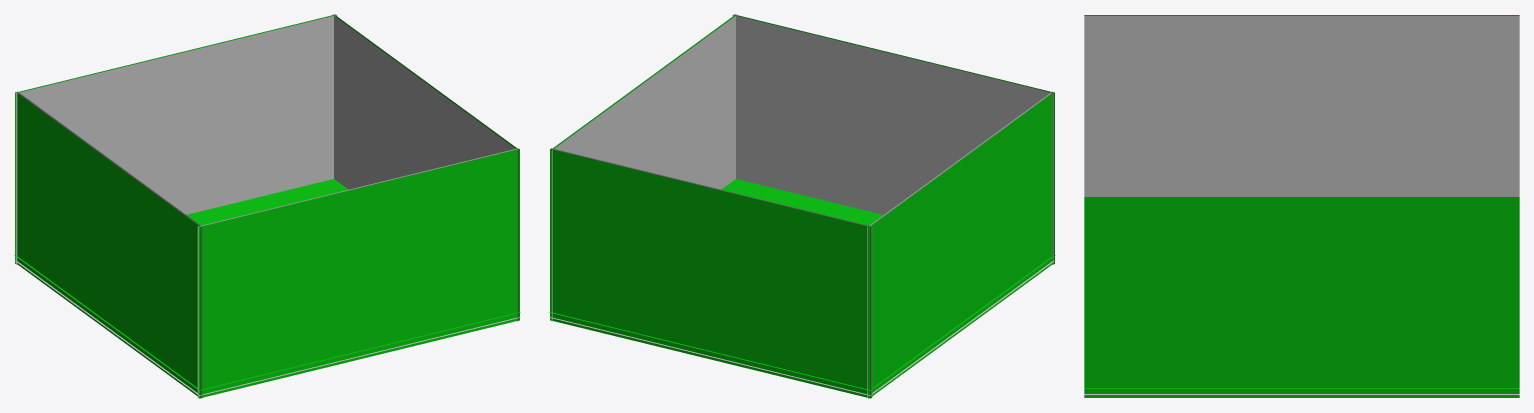
The model's file is the-pit.obj.
The picture shows the model from 3 angles, left to right: view 1: azimuth 30°, elevation 25°; view 2: azimuth 150°, elevation 25°; view 3: azimuth 270°, elevation 25°; orthographic projection. The views are drawn at different scales.
Parts seen in each view (by area): view 1: southWallColl, northWall, westWallColl, eastWall, groundColl, ground, southWall, eastWallColl, northWallColl, westWall; view 2: northWallColl, southWall, westWallColl, eastWall, groundColl, ground, northWall, eastWallColl, southWallColl, westWall; view 3: eastWallColl, westWall, ground, eastWall, groundColl, westWallColl.
Part boxes in pixels (left/top/right/bottom): southWallColl: left=198, top=149, right=519, bottom=398; northWall: left=16, top=15, right=337, bottom=264; westWallColl: left=16, top=92, right=201, bottom=398; eastWall: left=333, top=15, right=517, bottom=321; groundColl: left=14, top=179, right=520, bottom=390; ground: left=14, top=260, right=520, bottom=395; southWall: left=197, top=148, right=518, bottom=397; eastWallColl: left=333, top=14, right=519, bottom=320; northWallColl: left=15, top=14, right=336, bottom=263; westWall: left=17, top=91, right=202, bottom=397; northWallColl: left=550, top=149, right=871, bottom=398; southWall: left=732, top=15, right=1053, bottom=264; westWallColl: left=868, top=92, right=1053, bottom=398; eastWall: left=552, top=15, right=736, bottom=321; groundColl: left=549, top=179, right=1055, bottom=390; ground: left=549, top=260, right=1055, bottom=395; northWall: left=551, top=148, right=872, bottom=397; eastWallColl: left=550, top=14, right=736, bottom=320; southWallColl: left=733, top=14, right=1054, bottom=263; westWall: left=867, top=91, right=1052, bottom=397; eastWallColl: left=1084, top=197, right=1519, bottom=397; westWall: left=1084, top=16, right=1519, bottom=195; ground: left=1084, top=394, right=1519, bottom=394; eastWall: left=1084, top=196, right=1519, bottom=196; groundColl: left=1084, top=388, right=1519, bottom=388; westWallColl: left=1084, top=15, right=1519, bottom=15.
Bounding box in the file's own units: 100 × 51 × 100.
